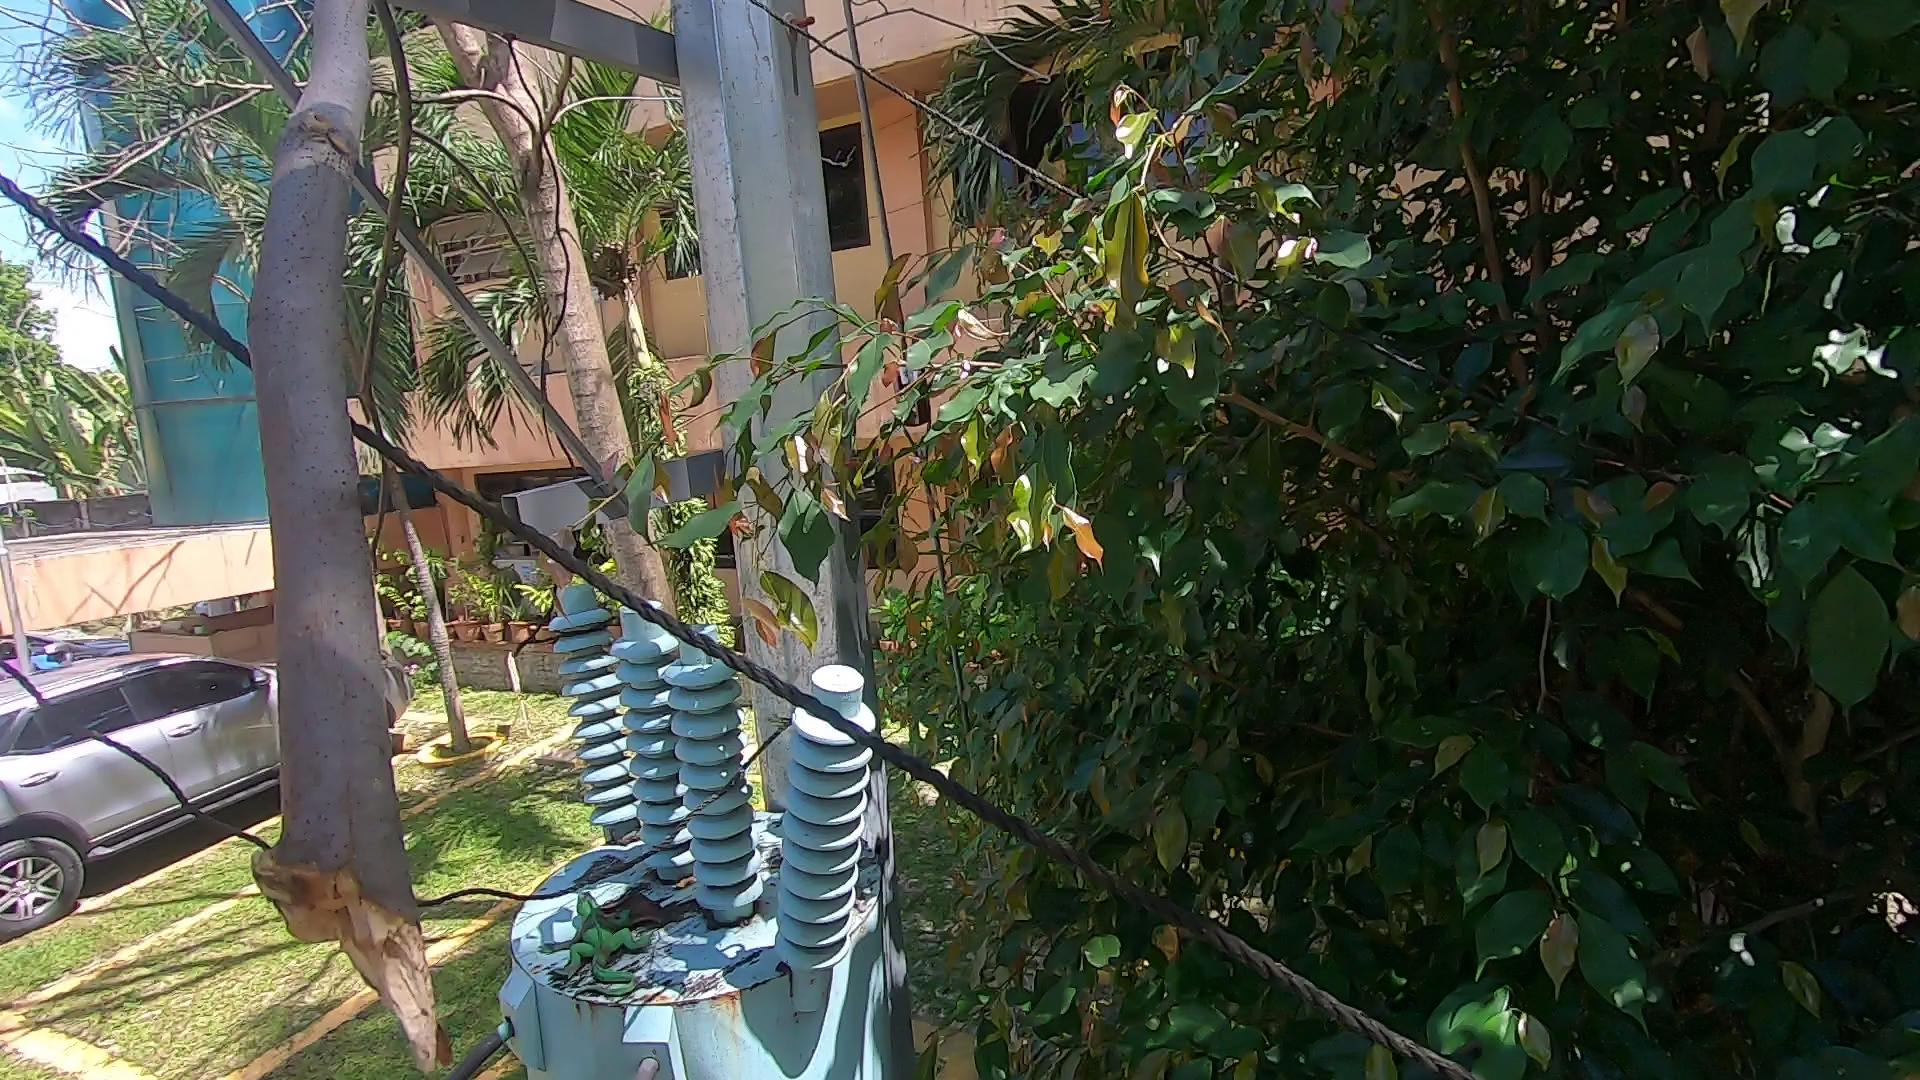branch with leaves: (512, 351, 856, 682)
leaf: (589, 880, 709, 932), (599, 833, 651, 858)
tree branch: (185, 7, 489, 1034)
